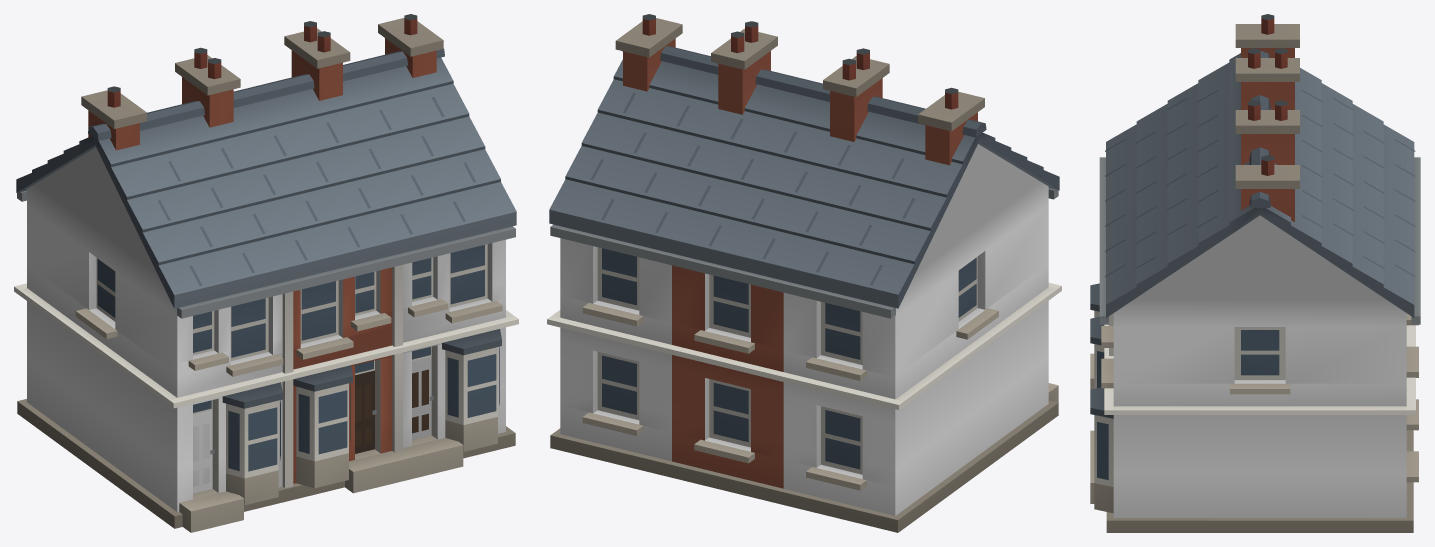
File: terrace.glb
The picture shows the model from 3 angles, left to right: view 1: azimuth 30°, elevation 25°; view 2: azimuth 150°, elevation 25°; view 3: azimuth 270°, elevation 25°; orthographic projection. The views are drawn at different scales.
Parts seen in each view (by area): view 1: Terrace; view 2: Terrace; view 3: Terrace.
Part boxes in pixels (box(x1,y1,x2,y2)): Terrace: box(14, 14, 518, 532); Terrace: box(547, 14, 1061, 532); Terrace: box(1090, 14, 1420, 532).
Bounding box in the file's own units: 1.02 × 1.07 × 0.856.
